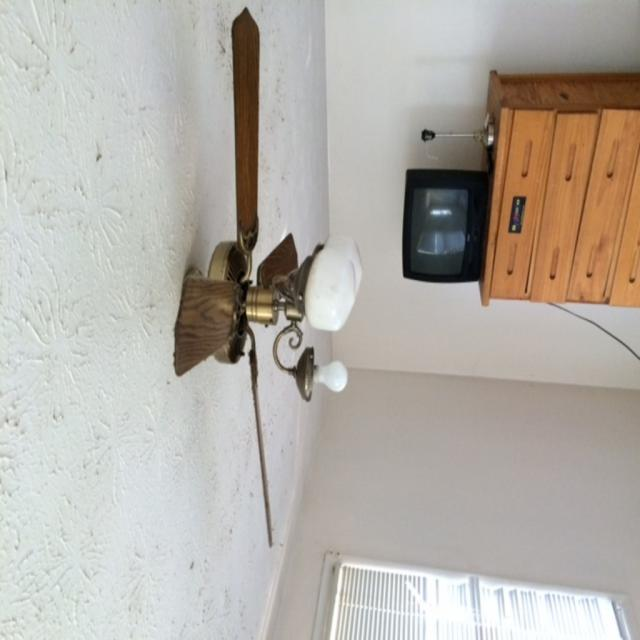bulb_off: (308, 255, 357, 338), (321, 359, 353, 388)
fan_off: (210, 10, 299, 554)
